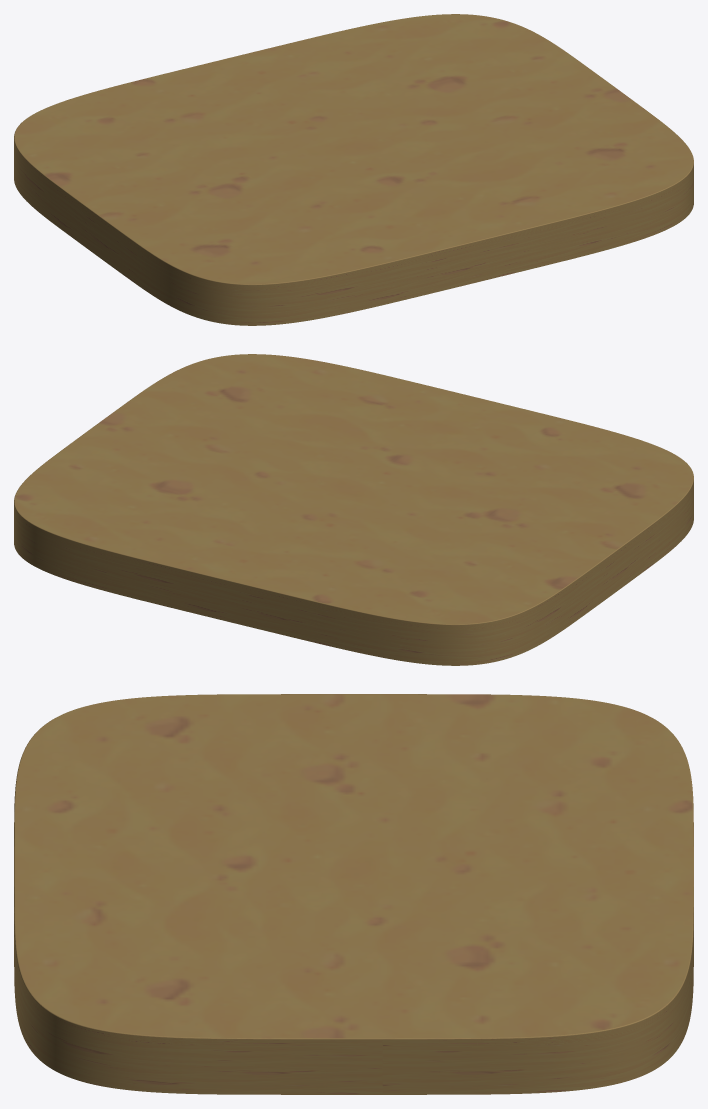
Rendered from starter-16.glb.
The picture shows the model from 3 angles, top to bottom: view 1: azimuth 30°, elevation 25°; view 2: azimuth 150°, elevation 25°; view 3: azimuth 270°, elevation 25°; orthographic projection. The views are drawn at different scales.
Visible parts, largest first — view 1: geometry_0; view 2: geometry_0; view 3: geometry_0.
Part boxes in pixels (left/top/right/bottom): geometry_0: left=14, top=14, right=693, bottom=325; geometry_0: left=14, top=354, right=693, bottom=665; geometry_0: left=14, top=694, right=693, bottom=1094.
Bounding box in the file's own units: 78.86 × 6 × 65.71.
Materials: 1 (1 with a texture image).
